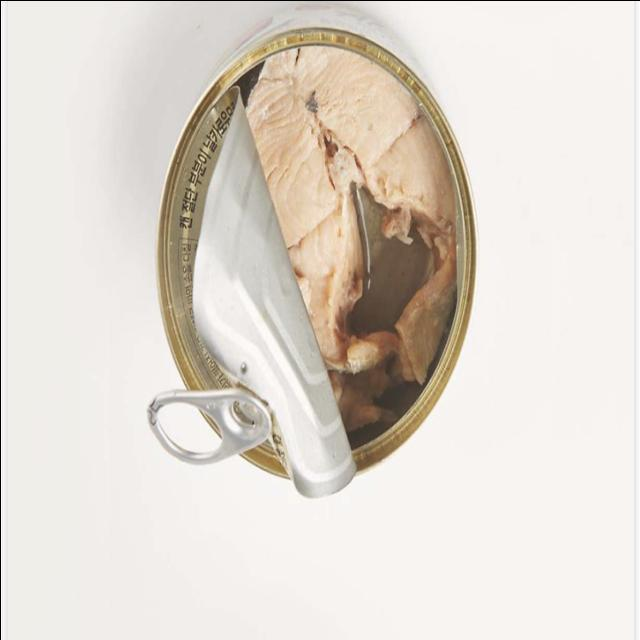can: (114, 10, 504, 510)
